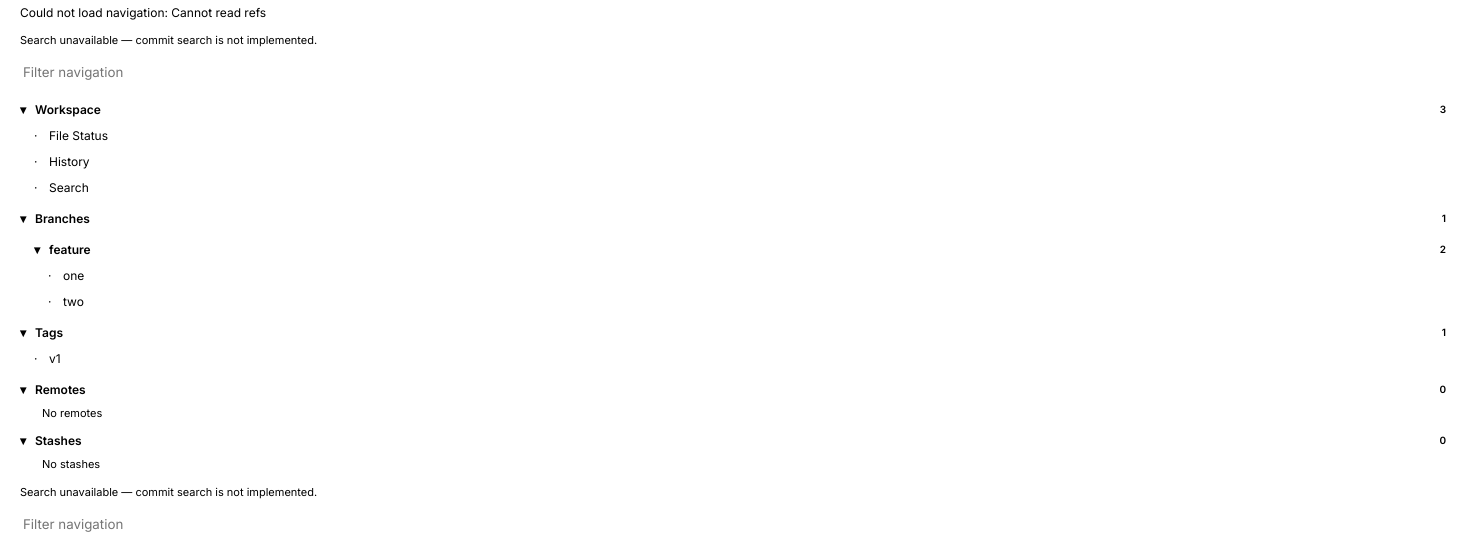
Scenario: mounted repository navigation › explains local read errors and empty filters
This screenshot has width=1464, height=554.
expect the message "Could not load navigation: Cannot read refs" is shown: met, box [20,5,266,20]
Type "absent-reference" into the field with placeholder "Filter navigation" below "No stashes" at x=732, y=524, box [18,511,1446,537]
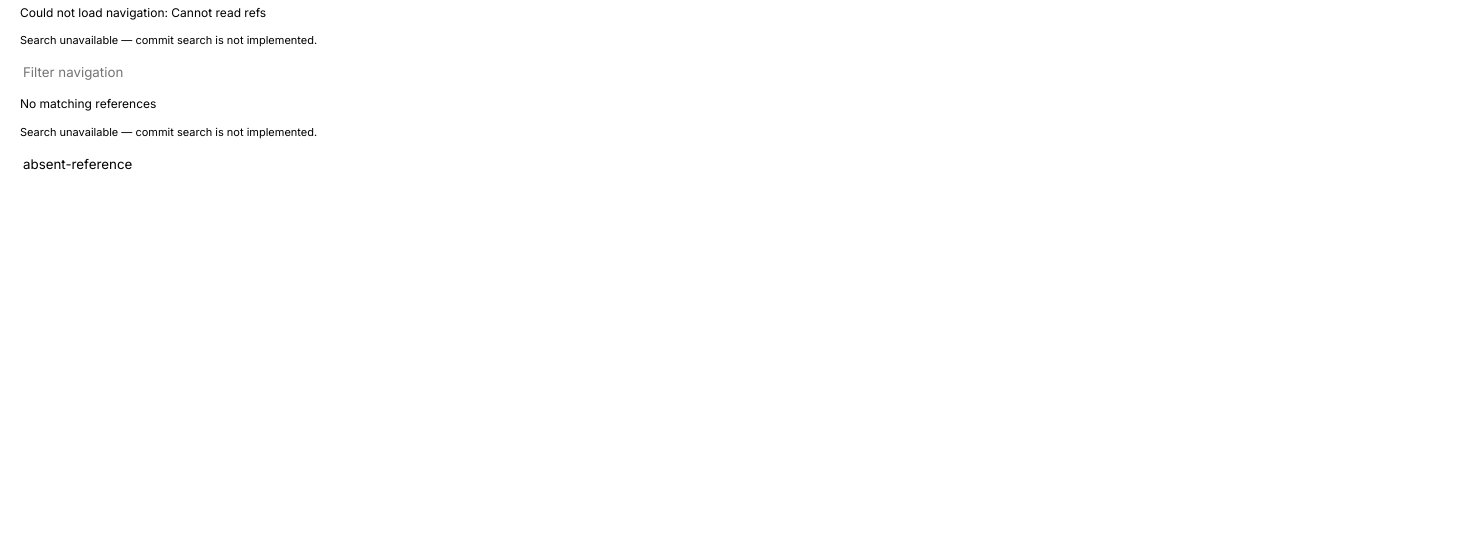
expect the text "No matching references" is shown: met, box [20,96,156,111]
